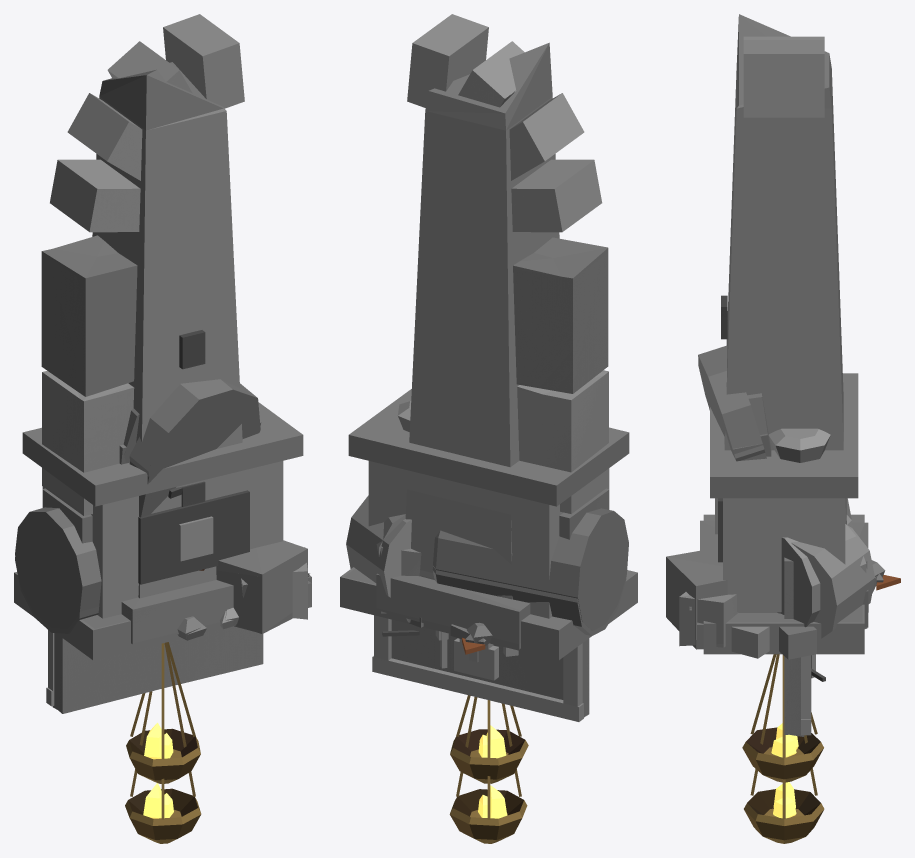
The model's file is ruins.glb.
3 renders of one model, left to right at view 1: azimuth 30°, elevation 25°; view 2: azimuth 150°, elevation 25°; view 3: azimuth 270°, elevation 25°, orthographic. The views are drawn at different scales.
Visible parts, largest first — view 1: ruins_obelisk_broken_b, ruins_collapsed_arch_a, ruins_altar_b, ruins_collapsed_arch_b, ruins_toppled_column_a, ruins_wall_relief_a, ruins_stone_tablet_b, ruins_wall_relief_b, ruins_obelisk_broken_a, ruins_hanging_censer_b, ruins_hanging_censer_a, ruins_altar_a (+2 smaller); view 2: ruins_obelisk_broken_b, ruins_collapsed_arch_b, ruins_collapsed_arch_a, ruins_altar_b, ruins_toppled_column_a, ruins_wall_relief_a, ruins_toppled_column_b, ruins_wall_relief_b, ruins_obelisk_broken_a, ruins_hanging_censer_b, ruins_hanging_censer_a; view 3: ruins_obelisk_broken_b, ruins_altar_b, ruins_collapsed_arch_a, ruins_toppled_column_a, ruins_altar_a, ruins_toppled_column_b, ruins_hanging_censer_b, ruins_stone_tablet_b, ruins_hanging_censer_a, ruins_wall_relief_a, ruins_collapsed_arch_b, ruins_wall_relief_b (+2 smaller).
Boxes of the visible parts, x1,y1,x2,y2 form: ruins_obelisk_broken_b: (92, 62, 309, 644); ruins_collapsed_arch_a: (41, 14, 307, 610); ruins_altar_b: (14, 402, 311, 660); ruins_collapsed_arch_b: (41, 41, 307, 619); ruins_toppled_column_a: (15, 507, 307, 633); ruins_wall_relief_a: (46, 626, 263, 711); ruins_stone_tablet_b: (129, 379, 261, 640); ruins_wall_relief_b: (57, 627, 263, 713); ruins_obelisk_broken_a: (121, 330, 309, 643); ruins_hanging_censer_b: (125, 642, 201, 843); ruins_hanging_censer_a: (126, 642, 200, 783); ruins_altar_a: (52, 408, 311, 628); ruins_obelisk_broken_b: (376, 42, 559, 649); ruins_collapsed_arch_b: (381, 41, 609, 575); ruins_collapsed_arch_a: (381, 14, 609, 613); ruins_altar_b: (340, 389, 637, 660); ruins_toppled_column_a: (376, 508, 628, 643); ruins_wall_relief_a: (372, 615, 589, 721); ruins_toppled_column_b: (346, 495, 626, 645); ruins_wall_relief_b: (392, 621, 589, 716); ruins_obelisk_broken_a: (376, 570, 530, 643); ruins_hanging_censer_b: (449, 697, 527, 843); ruins_hanging_censer_a: (450, 695, 528, 783); ruins_obelisk_broken_b: (689, 14, 868, 627); ruins_altar_b: (703, 373, 864, 654); ruins_collapsed_arch_a: (716, 40, 867, 647); ruins_toppled_column_a: (666, 498, 885, 639); ruins_altar_a: (697, 374, 862, 659); ruins_toppled_column_b: (666, 525, 883, 649); ruins_hanging_censer_b: (744, 654, 824, 843); ruins_stone_tablet_b: (698, 345, 766, 461); ruins_hanging_censer_a: (742, 654, 823, 782); ruins_wall_relief_a: (784, 562, 825, 735); ruins_collapsed_arch_b: (679, 36, 867, 646); ruins_wall_relief_b: (784, 557, 815, 736).
Size of the model in its own units: 0.8549 by 2.66 by 0.6947.
